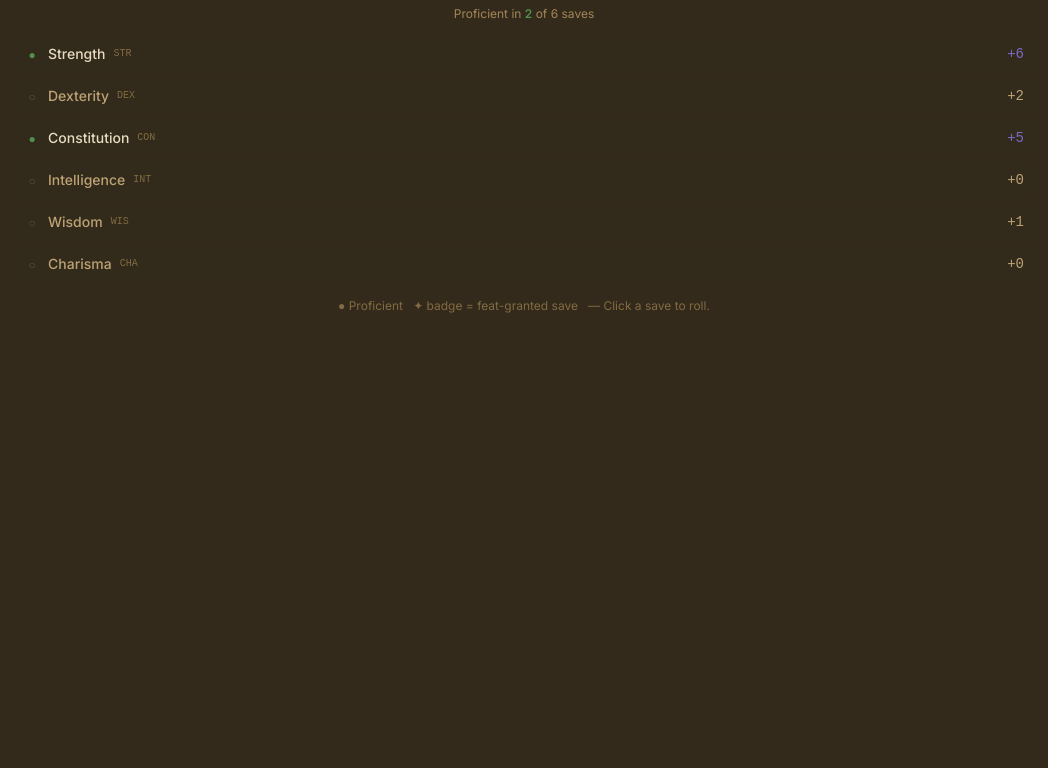
Test: SavingThrowsPanel › rolls a save against a DC and reports success
Click the button "○ Wisdom WIS +1" at (75, 222), box [12, 204, 1036, 240]
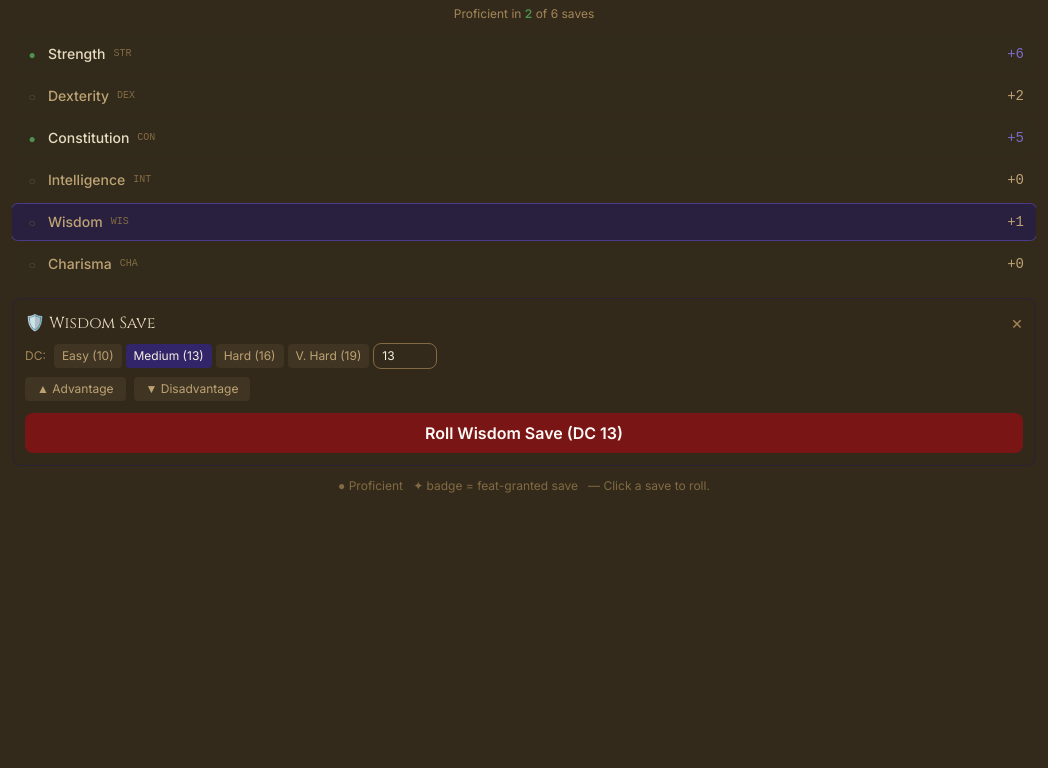
Click the button "Roll Wisdom Save (DC 13)" at (524, 433), box [25, 413, 1023, 453]
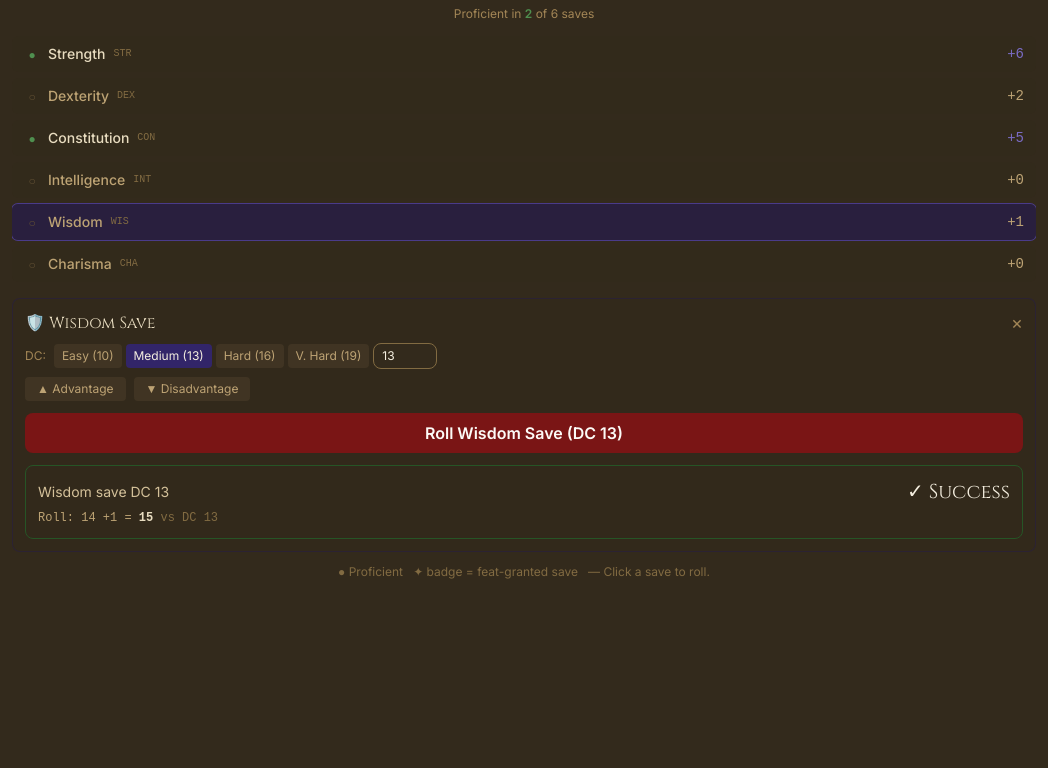
Expected: the text "✓ Success" is shown, [907, 478, 1010, 506]
